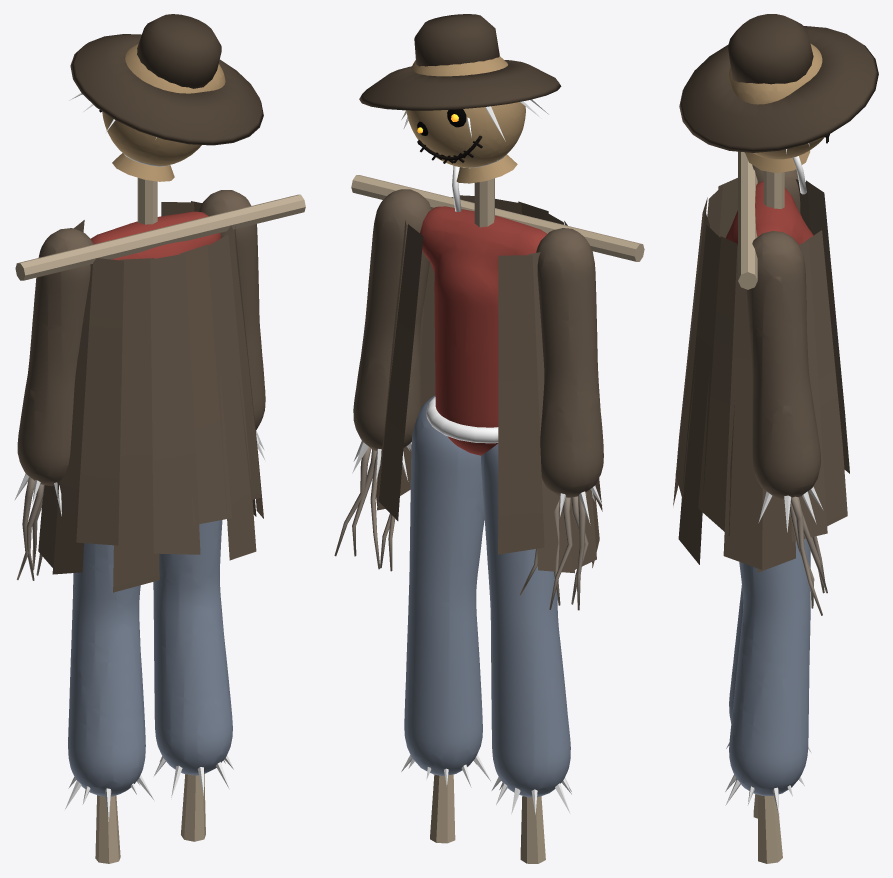
Rendered from scarecrow.glb.
3 views of the same model, side by side, from view 1: azimuth 30°, elevation 25°; view 2: azimuth 150°, elevation 25°; view 3: azimuth 270°, elevation 25° (orthographic).
Visible parts, largest first — view 1: torso_mesh, head_mesh, leg_0_mesh, leg_1_mesh, arm_0_mesh, arm_1_mesh; view 2: torso_mesh, leg_1_mesh, leg_0_mesh, head_mesh, arm_0_mesh, arm_1_mesh; view 3: torso_mesh, head_mesh, leg_1_mesh, arm_1_mesh, leg_0_mesh, arm_0_mesh.
Part boxes in pixels (x1=…): torso_mesh: x1=15, y1=178, x2=305, y2=592; head_mesh: x1=69, y1=14, x2=263, y2=181; leg_0_mesh: x1=65, y1=543, x2=154, y2=863; leg_1_mesh: x1=153, y1=520, x2=233, y2=841; arm_0_mesh: x1=14, y1=228, x2=93, y2=580; arm_1_mesh: x1=198, y1=190, x2=265, y2=460; torso_mesh: x1=351, y1=175, x2=644, y2=573; leg_1_mesh: x1=401, y1=395, x2=490, y2=843; leg_0_mesh: x1=481, y1=443, x2=571, y2=863; head_mesh: x1=359, y1=14, x2=561, y2=211; arm_0_mesh: x1=519, y1=228, x2=603, y2=610; arm_1_mesh: x1=334, y1=189, x2=431, y2=571; torso_mesh: x1=673, y1=151, x2=849, y2=572; head_mesh: x1=679, y1=14, x2=878, y2=194; leg_1_mesh: x1=725, y1=538, x2=810, y2=863; arm_1_mesh: x1=746, y1=231, x2=827, y2=615; leg_0_mesh: x1=726, y1=585, x2=811, y2=818; arm_0_mesh: x1=752, y1=165, x2=800, y2=213.
Size of the model in its own units: 1 by 2.79 by 0.6266.
